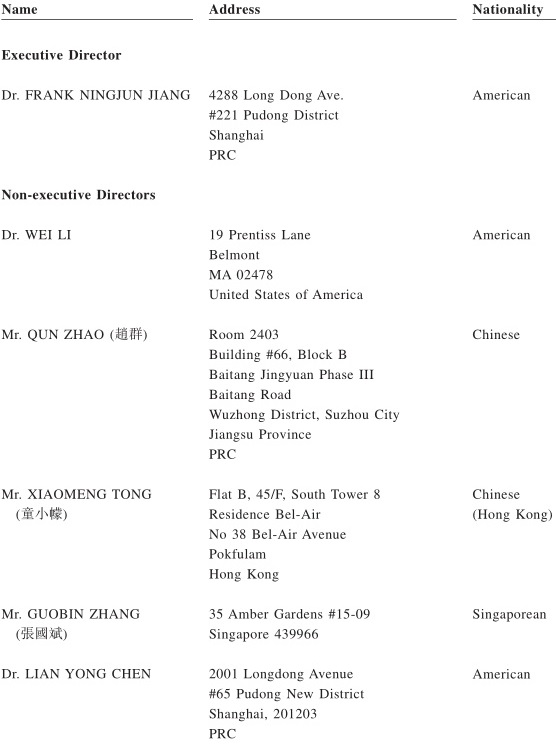column: (206, 1, 399, 744), (1, 1, 191, 743), (471, 1, 552, 743)
row: (1, 624, 556, 642), (1, 87, 556, 103), (1, 505, 556, 521), (1, 526, 556, 542), (1, 47, 556, 62), (1, 347, 556, 362), (1, 606, 556, 621), (1, 667, 556, 682), (1, 108, 556, 122), (1, 187, 556, 201), (1, 327, 556, 341), (1, 368, 556, 382), (1, 387, 556, 401), (1, 407, 556, 421), (1, 427, 556, 441), (1, 447, 556, 461), (1, 487, 556, 501), (1, 567, 556, 581), (1, 707, 556, 721), (1, 726, 556, 740), (1, 129, 556, 142), (1, 148, 556, 161), (1, 228, 556, 241), (1, 248, 556, 261), (1, 547, 556, 560), (1, 687, 556, 700), (1, 2, 556, 14), (1, 268, 556, 280), (1, 288, 556, 300)
